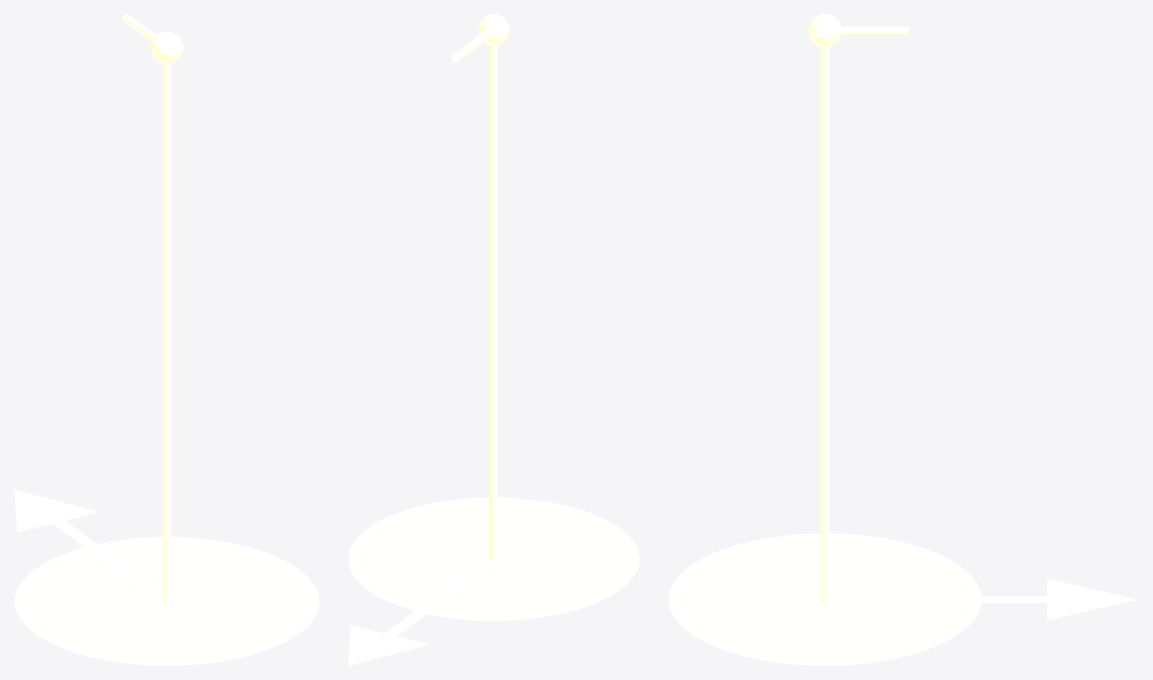
File: player_start_marker.glb
3 renders of one model, left to right at view 1: azimuth 30°, elevation 25°; view 2: azimuth 150°, elevation 25°; view 3: azimuth 270°, elevation 25°, orthographic. The views are drawn at different scales.
Visible parts, largest first — view 1: PlayerStart_FootprintFill, PlayerStart_Eye, PlayerStart_Footprint, PlayerStart_Facing; view 2: PlayerStart_FootprintFill, PlayerStart_Eye, PlayerStart_Footprint, PlayerStart_Facing; view 3: PlayerStart_FootprintFill, PlayerStart_Eye, PlayerStart_Footprint, PlayerStart_Facing.
Boxes of the visible parts, x1=… form: PlayerStart_FootprintFill: x1=22, y1=540, x2=311, y2=665; PlayerStart_Eye: x1=122, y1=14, x2=183, y2=604; PlayerStart_Footprint: x1=14, y1=537, x2=319, y2=665; PlayerStart_Facing: x1=14, y1=489, x2=172, y2=602; PlayerStart_FootprintFill: x1=355, y1=500, x2=632, y2=620; PlayerStart_Eye: x1=451, y1=14, x2=509, y2=560; PlayerStart_Footprint: x1=348, y1=497, x2=639, y2=620; PlayerStart_Facing: x1=348, y1=557, x2=499, y2=665; PlayerStart_FootprintFill: x1=676, y1=536, x2=973, y2=665; PlayerStart_Eye: x1=808, y1=14, x2=909, y2=603; PlayerStart_Footprint: x1=668, y1=533, x2=981, y2=665; PlayerStart_Facing: x1=825, y1=578, x2=1137, y2=620.
Bounding box in the file's own units: 0.82 × 1.69 × 1.23.
